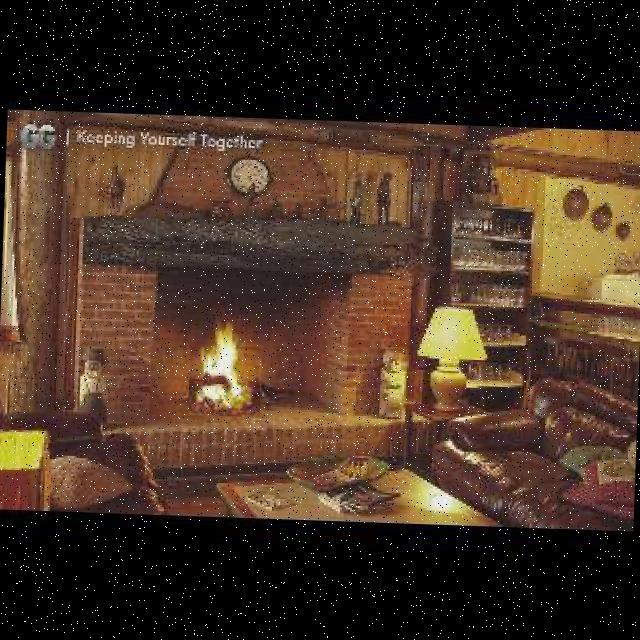fire: (188, 313, 264, 417)
